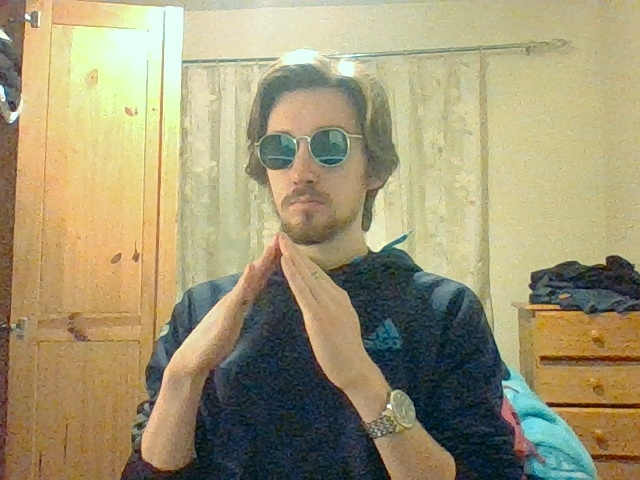home: (209, 231, 352, 325)
